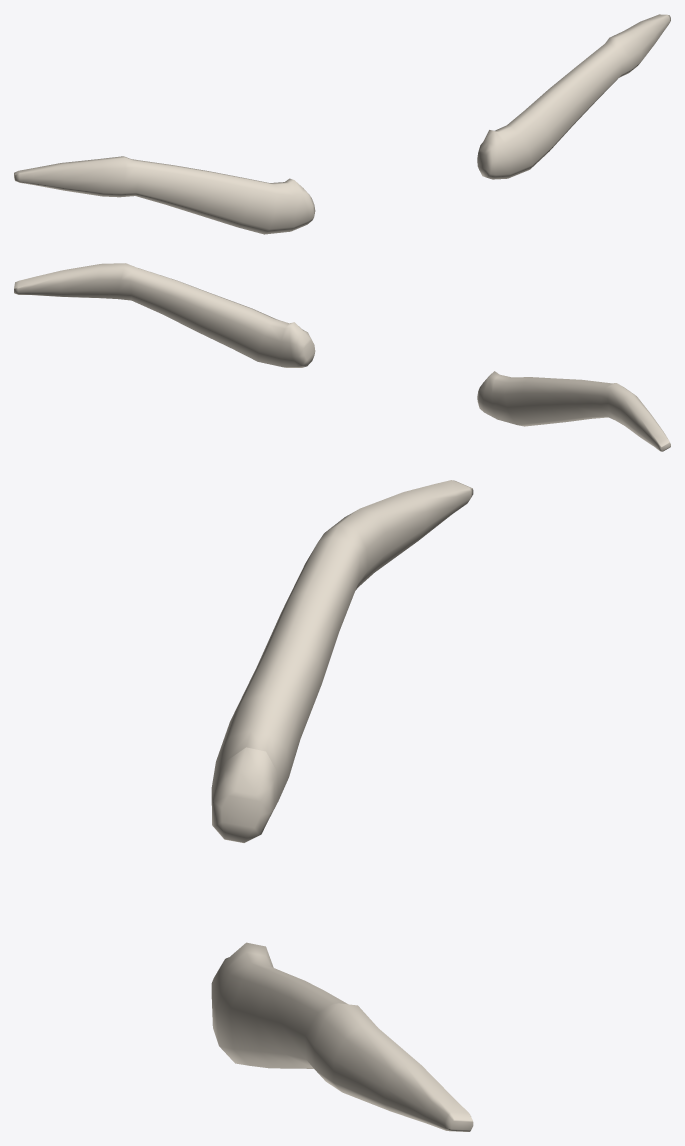
Rendered from Eyebrows_16_07.fbx.
3 views of the same model, one above another, from view 1: azimuth 30°, elevation 25°; view 2: azimuth 150°, elevation 25°; view 3: azimuth 270°, elevation 25° (orthographic). The views are drawn at different scales.
Parts seen in each view (by area): view 1: Eyebrows_16_07; view 2: Eyebrows_16_07; view 3: Eyebrows_16_07.
Part boxes in pixels (box(x1,y1,x2,y2)): Eyebrows_16_07: box(14, 14, 670, 234); Eyebrows_16_07: box(14, 263, 670, 451); Eyebrows_16_07: box(211, 480, 473, 1131).
Size of the model in its own units: 18.79 by 2.42 by 3.25.
